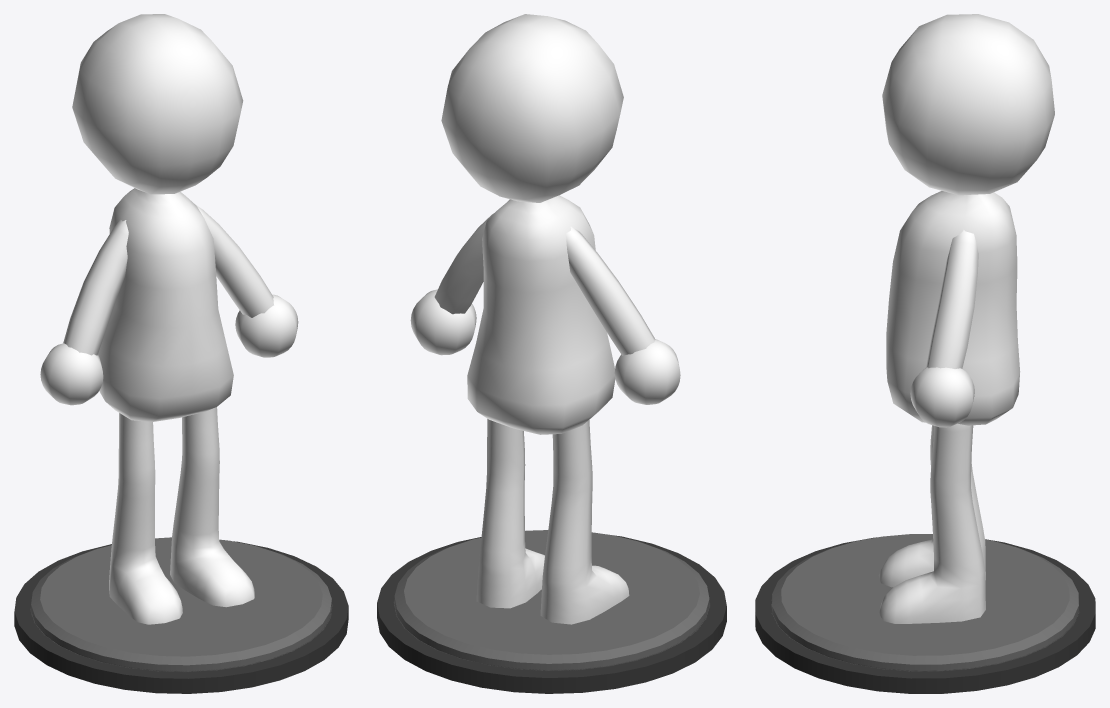
The model's file is AIModel.fbx.
The picture shows the model from 3 angles, left to right: view 1: azimuth 30°, elevation 25°; view 2: azimuth 150°, elevation 25°; view 3: azimuth 270°, elevation 25°; orthographic projection. The views are drawn at different scales.
Visible parts, largest first — view 1: Platform, Body, Head, Legs, Arm, Hand; view 2: Platform, Head, Body, Legs, Arm, Hand; view 3: Platform, Head, Body, Legs, Arm, Hand.
Part boxes in pixels (box(x1,y1,x2,y2)): Platform: box(14, 537, 348, 693); Body: box(98, 188, 233, 422); Head: box(72, 14, 243, 194); Legs: box(109, 407, 254, 624); Arm: box(63, 205, 273, 355); Hand: box(40, 294, 298, 405); Platform: box(377, 530, 726, 693); Head: box(441, 14, 623, 202); Body: box(467, 195, 615, 434); Legs: box(476, 419, 629, 624); Arm: box(434, 213, 654, 355); Hand: box(410, 289, 680, 404); Platform: box(755, 534, 1095, 693); Head: box(882, 14, 1054, 195); Body: box(886, 191, 1020, 425); Legs: box(879, 423, 985, 623); Arm: box(926, 230, 978, 368); Hand: box(910, 367, 974, 427).
Size of the model in its own units: 1.99 by 3.87 by 1.99.
